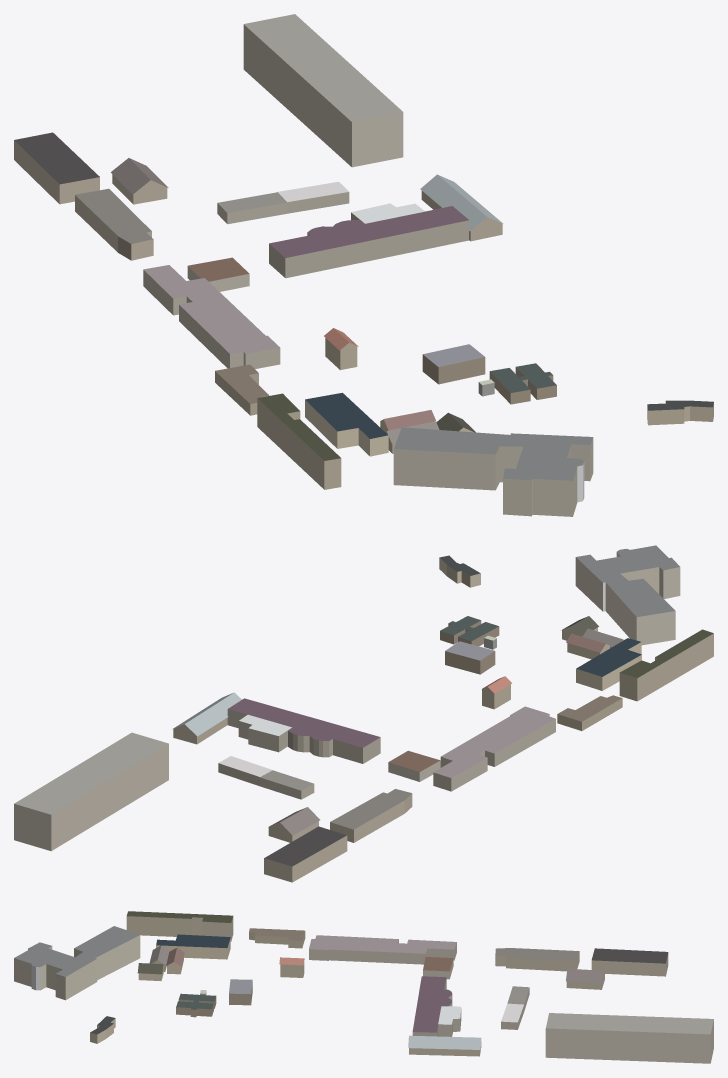
3 views of the same model, one above another, from view 1: azimuth 30°, elevation 25°; view 2: azimuth 150°, elevation 25°; view 3: azimuth 270°, elevation 25° (orthographic). The views are drawn at different scales.
Visible parts, largest first — view 1: tuile; view 2: tuile; view 3: tuile.
Part boxes in pixels (x1,y1,x2,y2): tuile: (14, 14, 713, 516); tuile: (14, 545, 713, 882); tuile: (14, 911, 713, 1063).
Size of the model in its own units: 134 by 13.84 by 298.
